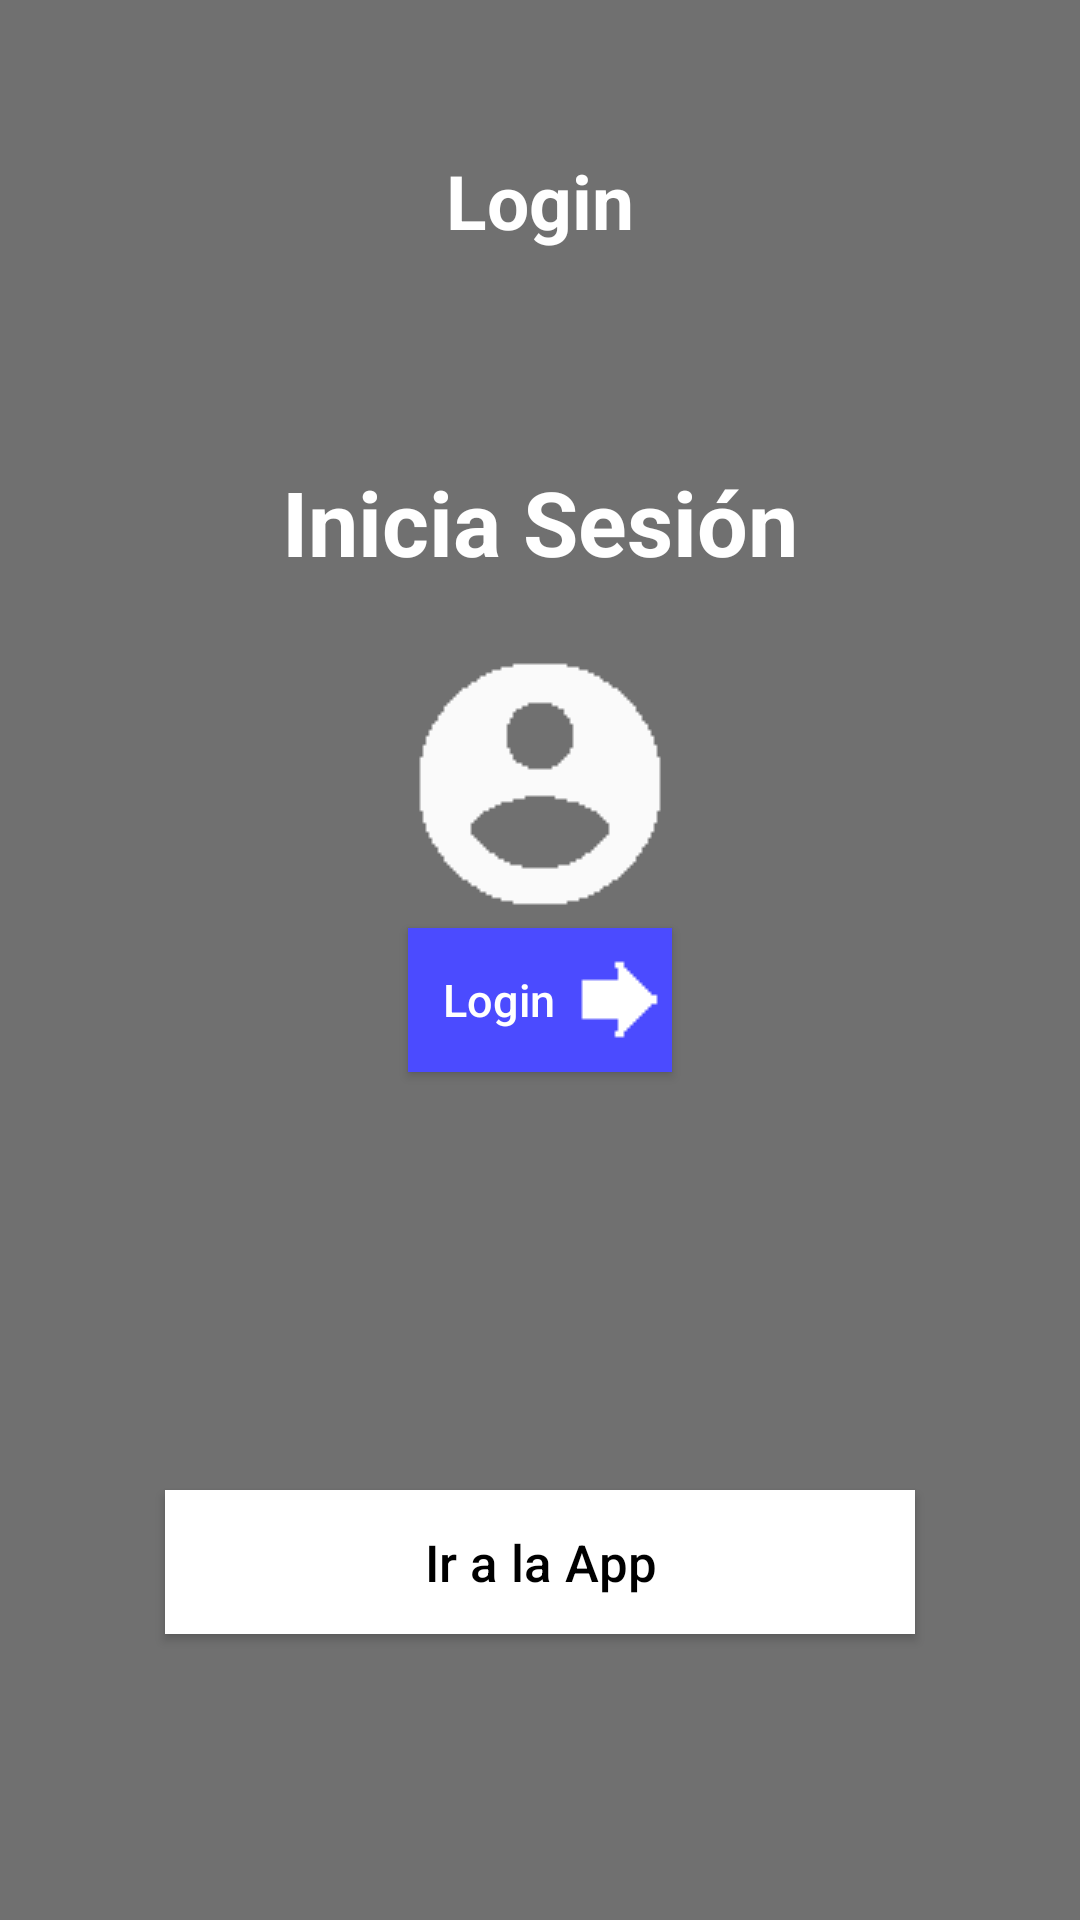

Icons on this 1080px x 1920px Android screen, each with its box as (x1, y1, x2, y2):
perfil: (419, 663, 661, 905)
